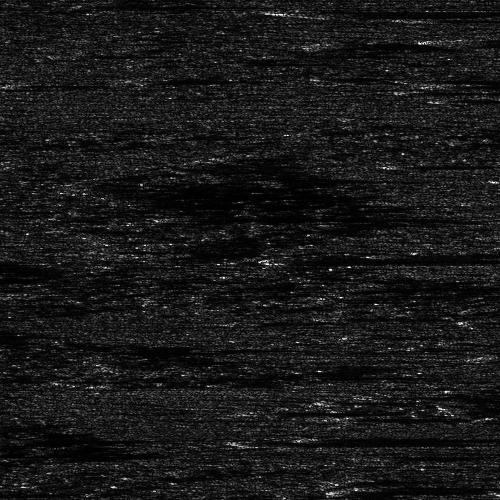object: (322, 408, 375, 425), (264, 5, 347, 14), (340, 160, 433, 167), (242, 256, 325, 263), (409, 35, 472, 44), (296, 40, 369, 47), (122, 72, 175, 81), (0, 78, 44, 87), (404, 76, 467, 81), (220, 318, 283, 323), (382, 453, 413, 458), (410, 16, 451, 19), (345, 487, 386, 490), (235, 438, 256, 443), (344, 284, 375, 287)
shadow: (0, 440, 135, 467), (349, 408, 456, 425), (306, 5, 500, 14), (284, 256, 492, 263), (149, 72, 282, 81), (246, 438, 455, 443), (332, 40, 475, 47), (12, 78, 96, 87), (387, 160, 487, 167), (440, 35, 500, 44), (360, 284, 500, 287), (0, 486, 38, 495), (366, 487, 474, 490), (436, 76, 500, 81), (397, 453, 452, 458), (252, 318, 302, 323), (431, 16, 500, 19)
